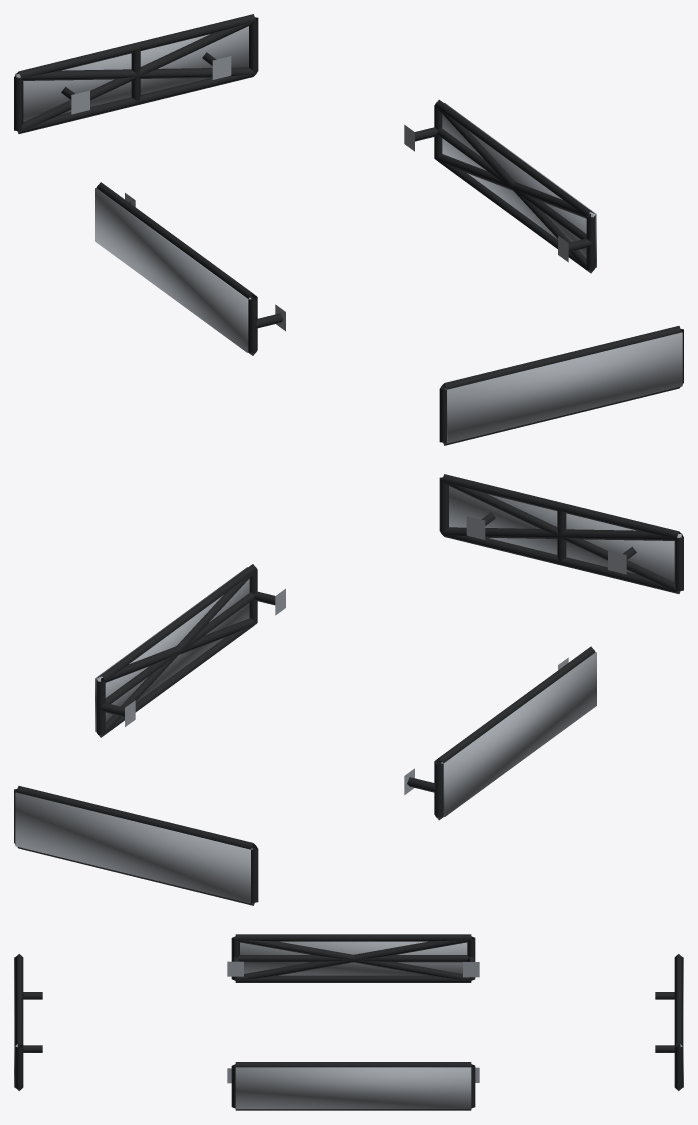
File: feldhaus_corisco_protecao.glb
3 views of the same model, one above another, from view 1: azimuth 30°, elevation 25°; view 2: azimuth 150°, elevation 25°; view 3: azimuth 270°, elevation 25° (orthographic). The views are drawn at different scales.
Parts seen in each view (by area): view 1: Protection_front_Level3_Details, Protection_left_Level3_Details, Protection_rear_Level1_Details, Protection_rear_Level3_Details, Protection_right_Level1_Details, Protection_rear_Level2_Details, Protection_right_Level2_Details, Protection_right_Level3_Details, Protection_front_Level1_Details, Protection_left_Level1_Details; view 2: Protection_rear_Level3_Details, Protection_left_Level3_Details, Protection_front_Level1_Details, Protection_front_Level3_Details, Protection_right_Level1_Details, Protection_front_Level2_Details, Protection_right_Level2_Details, Protection_right_Level3_Details, Protection_rear_Level1_Details, Protection_left_Level1_Details; view 3: Protection_right_Level3_Details, Protection_left_Level2_Details, Protection_left_Level1_Details, Protection_left_Level3_Details, Protection_right_Level1_Details, Protection_rear_Level1_Details, Protection_front_Level1_Details.
Boxes of the visible parts, left/top/right/bottom form: Protection_front_Level3_Details: left=445, top=332, right=682, bottom=443; Protection_left_Level3_Details: left=95, top=188, right=251, bottom=352; Protection_rear_Level1_Details: left=14, top=14, right=258, bottom=133; Protection_rear_Level3_Details: left=15, top=26, right=248, bottom=121; Protection_right_Level1_Details: left=404, top=99, right=595, bottom=273; Protection_rear_Level2_Details: left=16, top=21, right=255, bottom=133; Protection_right_Level2_Details: left=435, top=106, right=594, bottom=272; Protection_right_Level3_Details: left=442, top=103, right=596, bottom=267; Protection_front_Level1_Details: left=439, top=326, right=683, bottom=445; Protection_left_Level1_Details: left=96, top=182, right=285, bottom=355; Protection_rear_Level3_Details: left=15, top=792, right=252, bottom=903; Protection_left_Level3_Details: left=440, top=652, right=596, bottom=816; Protection_front_Level1_Details: left=439, top=474, right=683, bottom=593; Protection_front_Level3_Details: left=449, top=486, right=682, bottom=581; Protection_right_Level1_Details: left=96, top=564, right=285, bottom=737; Protection_front_Level2_Details: left=442, top=481, right=681, bottom=593; Protection_right_Level2_Details: left=97, top=570, right=256, bottom=737; Protection_right_Level3_Details: left=95, top=567, right=249, bottom=731; Protection_rear_Level1_Details: left=14, top=786, right=258, bottom=905; Protection_left_Level1_Details: left=404, top=646, right=595, bottom=820; Protection_right_Level3_Details: left=235, top=1067, right=471, bottom=1109; Protection_left_Level2_Details: left=235, top=937, right=471, bottom=980; Protection_left_Level1_Details: left=227, top=934, right=479, bottom=982; Protection_left_Level3_Details: left=240, top=941, right=467, bottom=975; Protection_right_Level1_Details: left=227, top=1062, right=479, bottom=1110; Protection_rear_Level1_Details: left=655, top=954, right=682, bottom=1090; Protection_front_Level1_Details: left=15, top=954, right=42, bottom=1090.
Bounding box in the file's own units: 2.06 × 0.354 × 4.41.
Materials: 1 (1 with a texture image).
